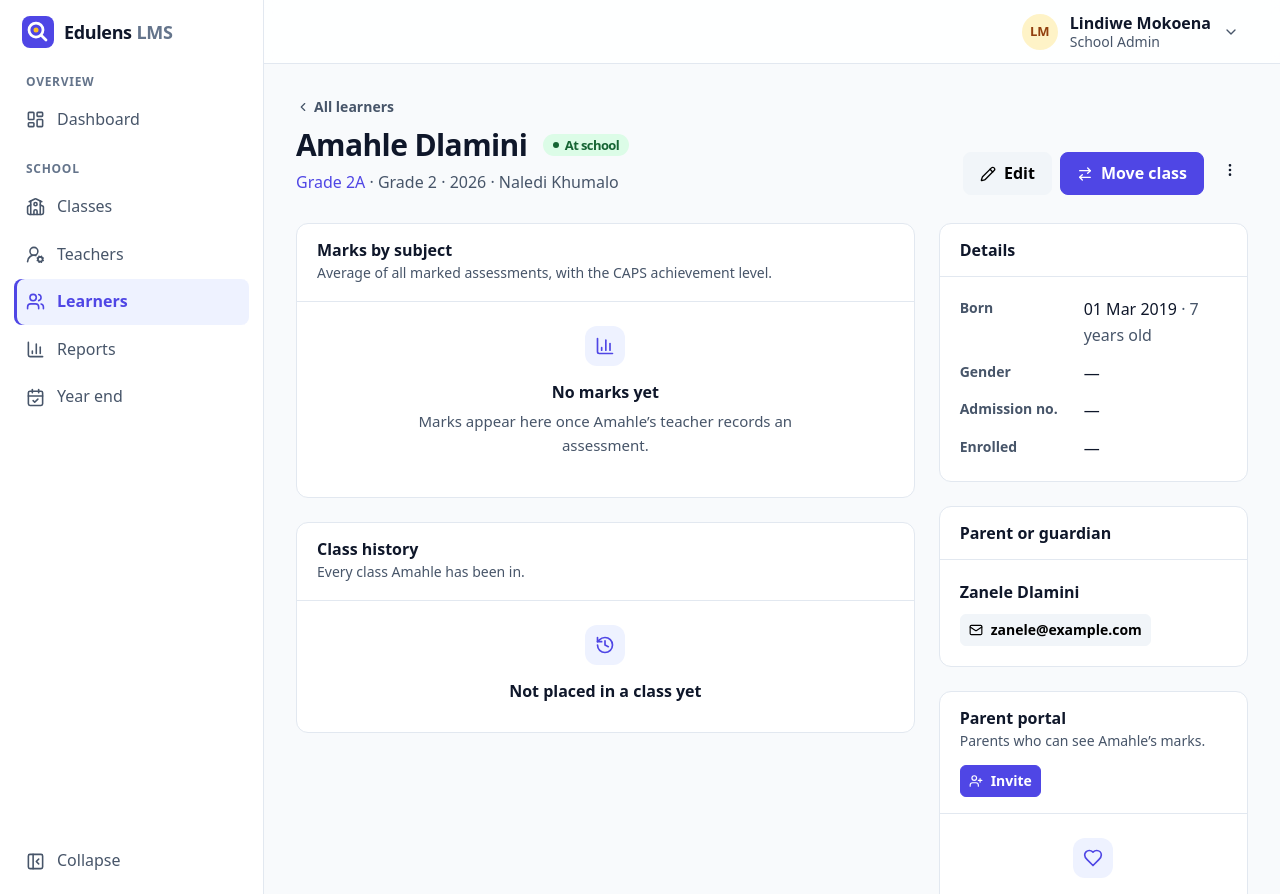
Test: Inviting a parent (school admin) › prefills from the learner record and shows the invitation link to share
This screenshot has width=1280, height=894.
Click the button "Invite". click: (1000, 781)
box: x1=960 y1=765 x2=1041 y2=797
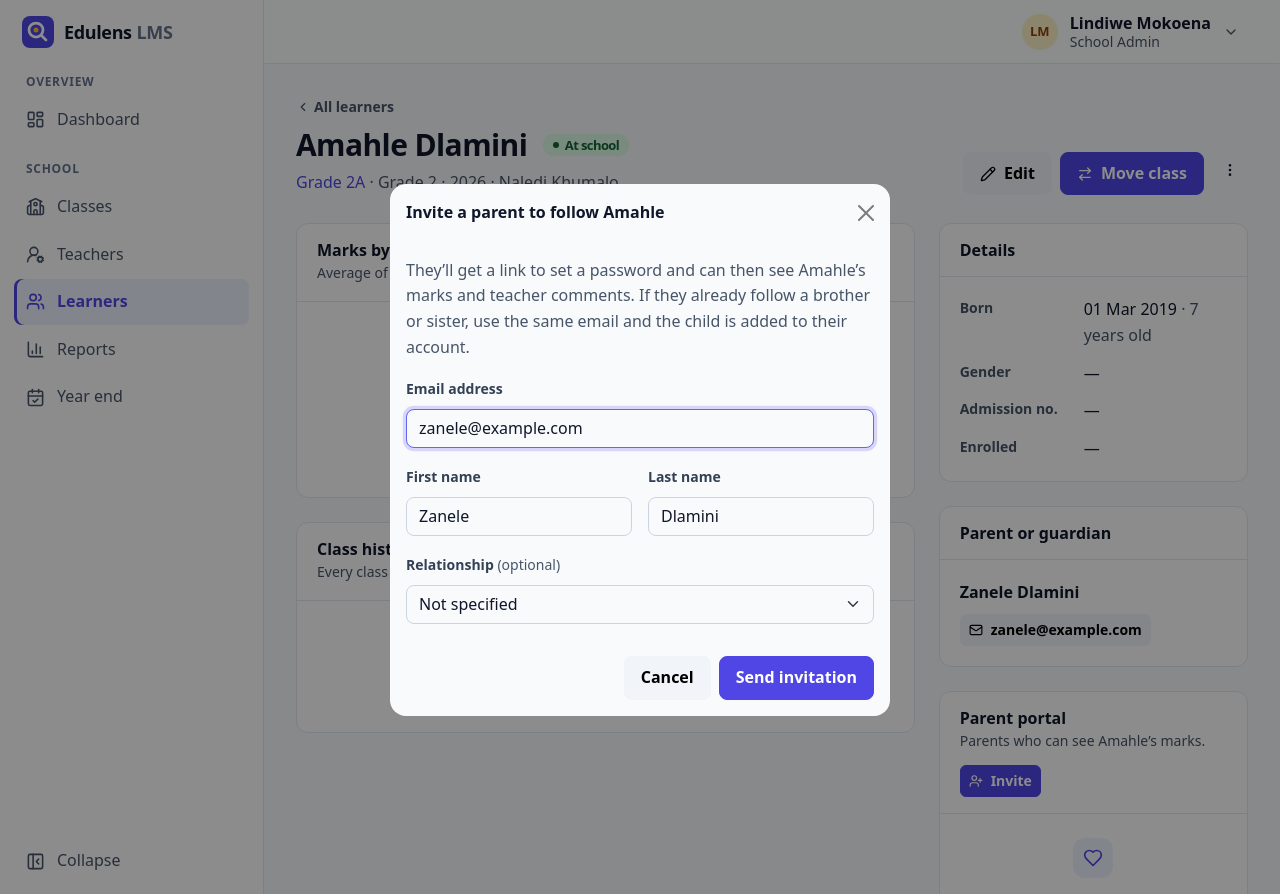
Now the field labelled "Email address" holds "zanele@example.com", box x1=406 y1=409 x2=874 y2=448
Now the field labelled "First name" holds "Zanele", box x1=406 y1=497 x2=632 y2=536
Select "Mother" in the dropdown labelled "Relationship (optional)". click: (640, 604)
box: x1=406 y1=585 x2=874 y2=624
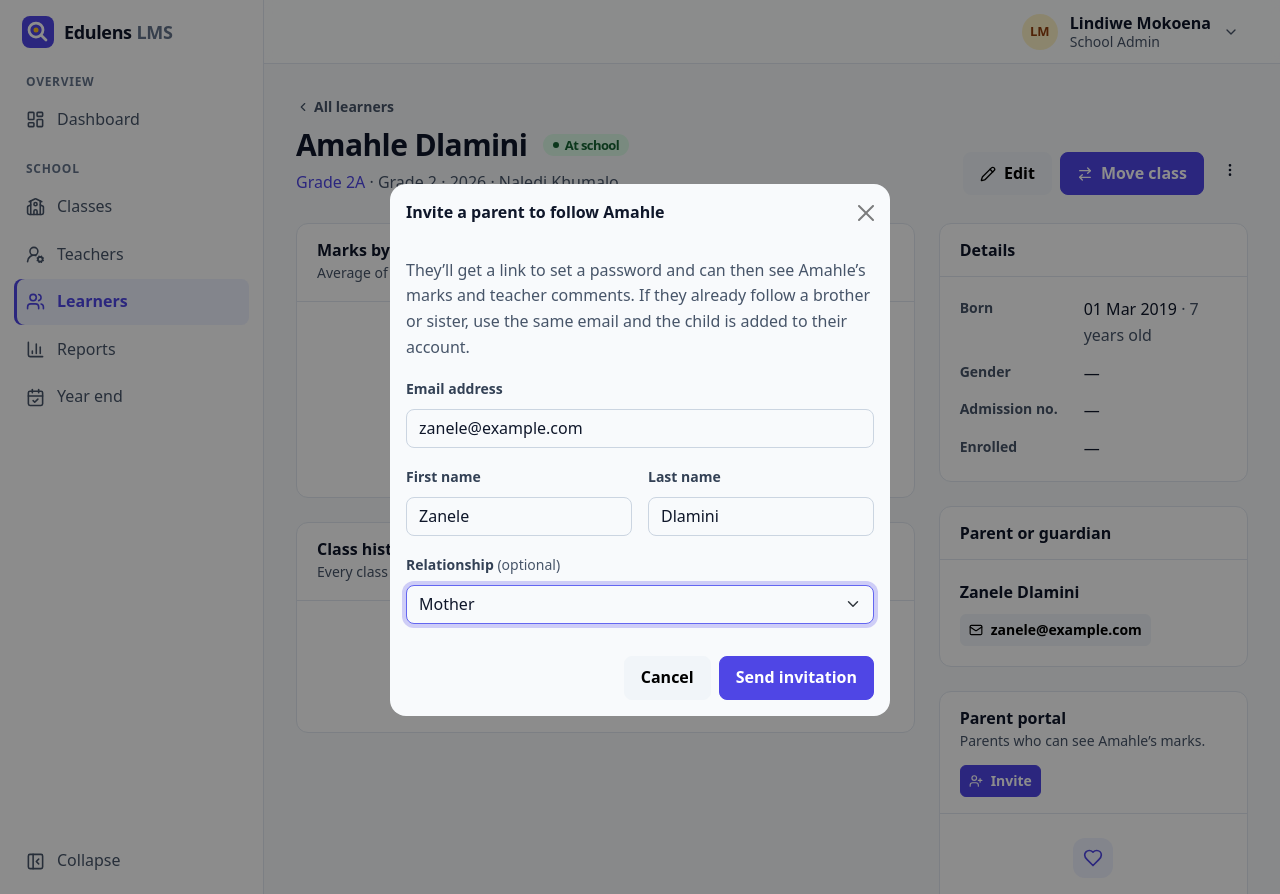
Click the button "Send invitation". click: (796, 678)
box: x1=719 y1=656 x2=874 y2=700
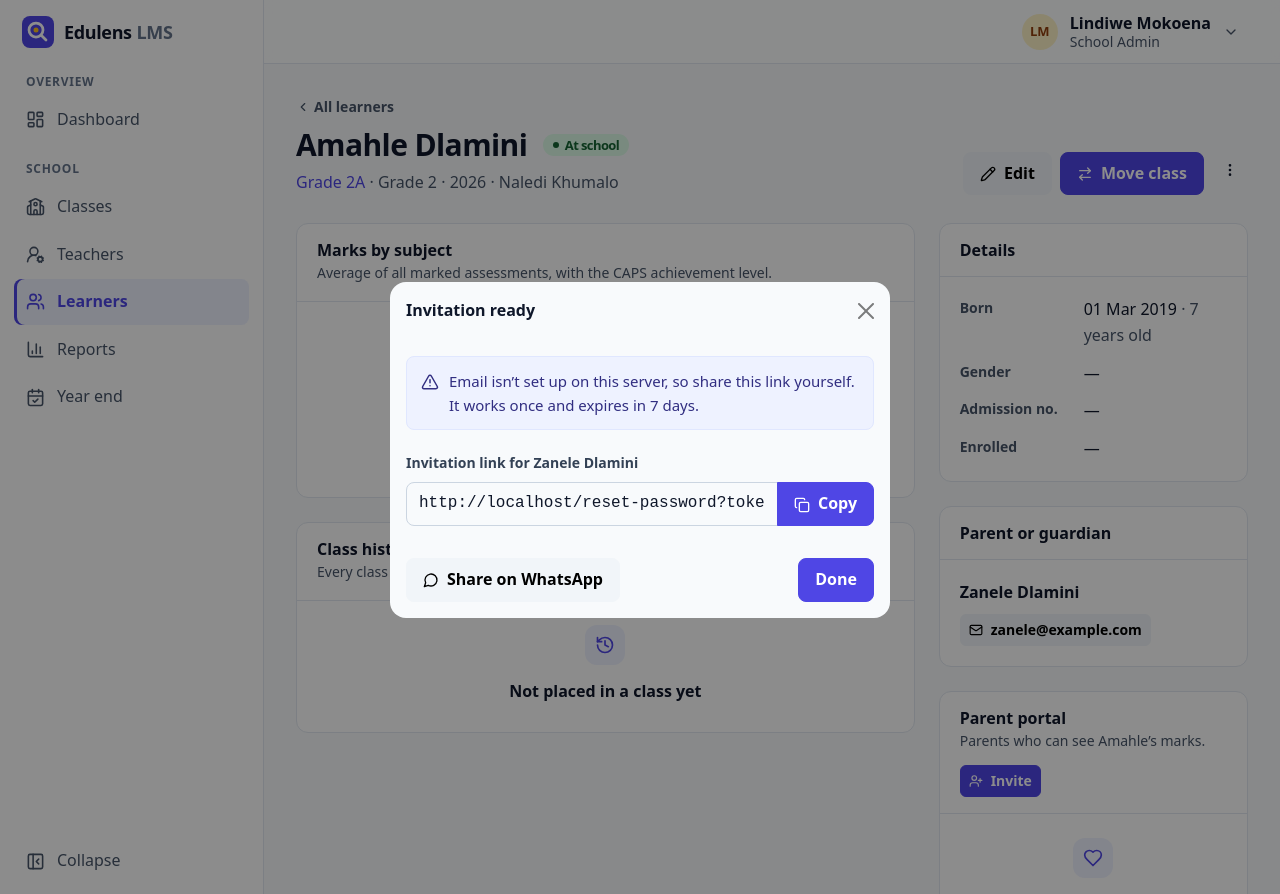
Now the dialog "Invitation ready" is shown, box x1=390 y1=282 x2=890 y2=618
